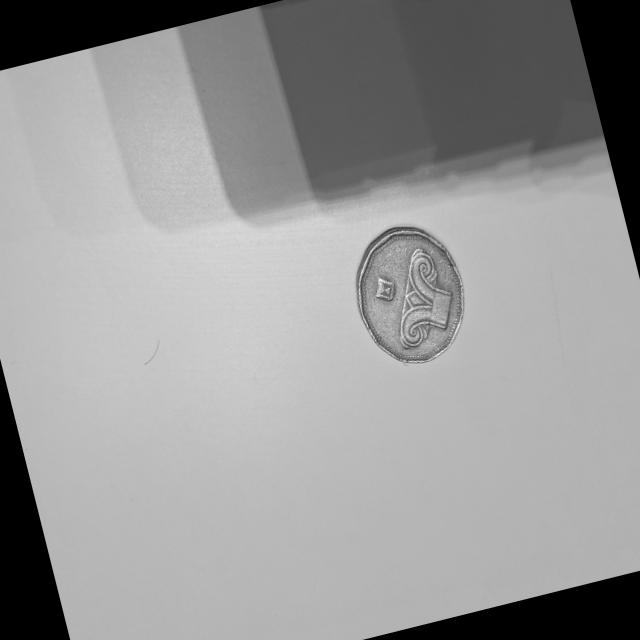5-shekel: (338, 202, 483, 374)
